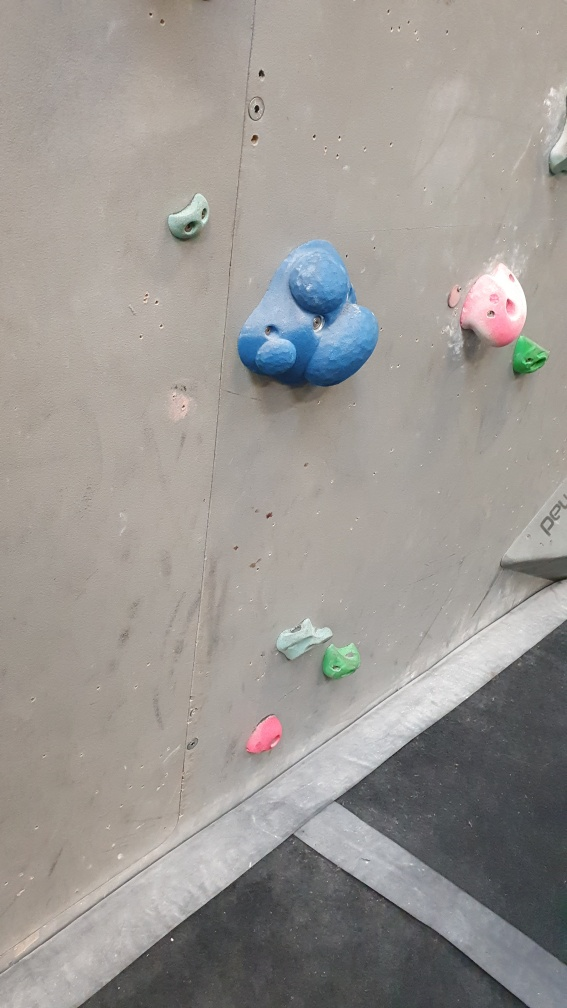Sloper: (238, 234, 384, 392)
